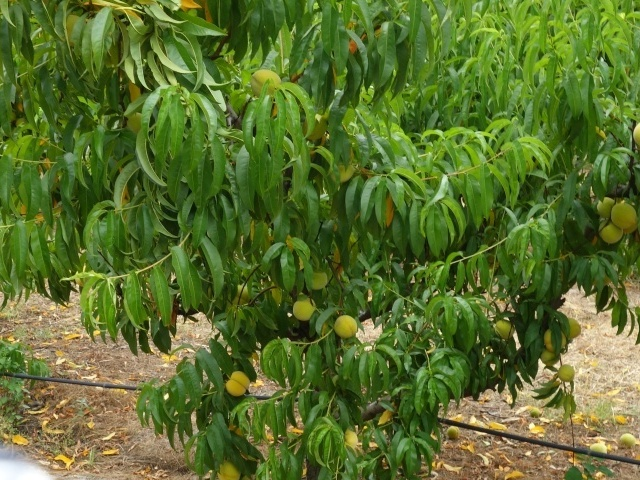peach: (249, 64, 287, 97), (220, 368, 254, 398), (598, 217, 626, 250), (290, 294, 320, 324), (333, 313, 360, 345), (610, 201, 638, 231), (595, 192, 621, 219), (490, 316, 517, 342), (213, 458, 244, 479), (540, 328, 563, 355), (125, 109, 147, 137), (308, 267, 331, 293), (562, 316, 585, 341), (556, 361, 576, 387), (538, 346, 556, 374)
